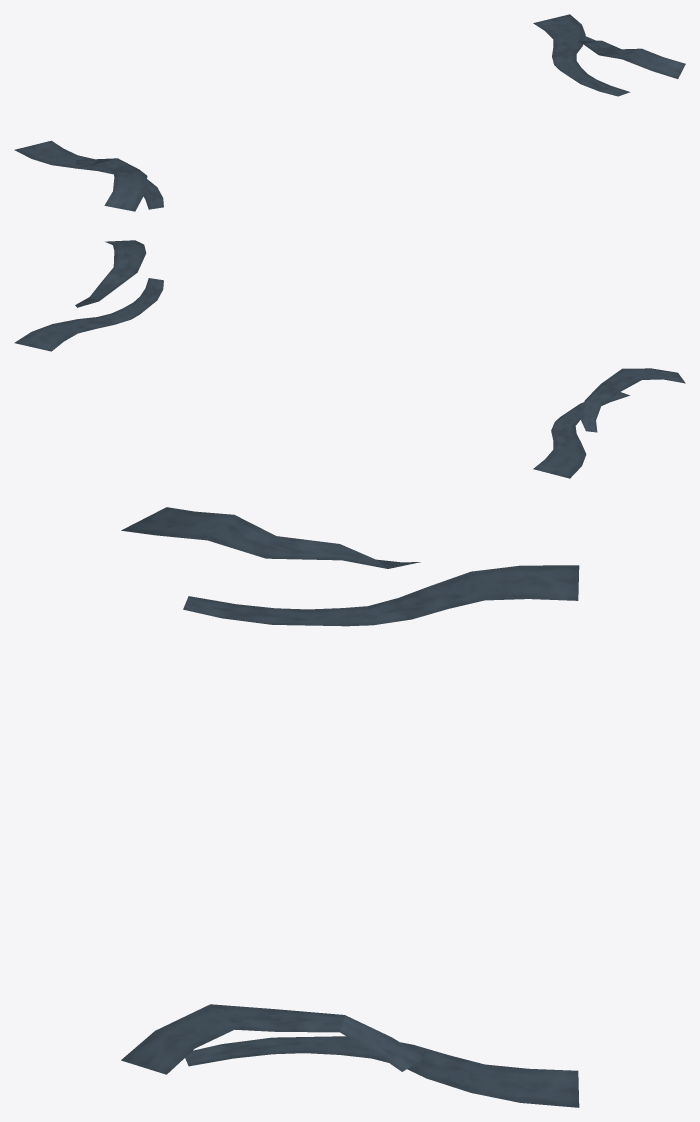
The model's file is DA_Fog.FBX.
The picture shows the model from 3 angles, top to bottom: view 1: azimuth 30°, elevation 25°; view 2: azimuth 150°, elevation 25°; view 3: azimuth 270°, elevation 25°; orthographic projection. The views are drawn at different scales.
Visible parts, largest first — view 1: fog2, fog1; view 2: fog2, fog1; view 3: fog2, fog1.
Part boxes in pixels (x1,y1,x2,y2): fog2: (14, 14, 630, 209); fog1: (75, 35, 685, 211); fog2: (14, 278, 629, 478); fog1: (75, 240, 685, 432); fog2: (183, 565, 579, 1107); fog1: (121, 507, 424, 1074).
Bounding box in the file's own units: 10553 × 558 × 3603.
1 material, 1 textured.
